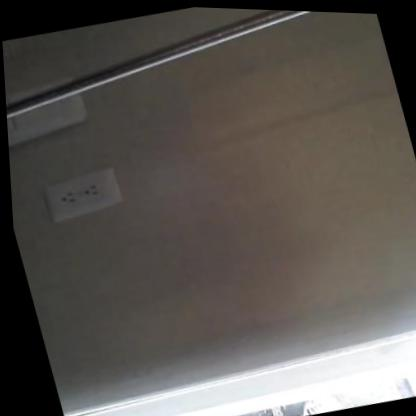OUTLET: (35, 161, 128, 227)
